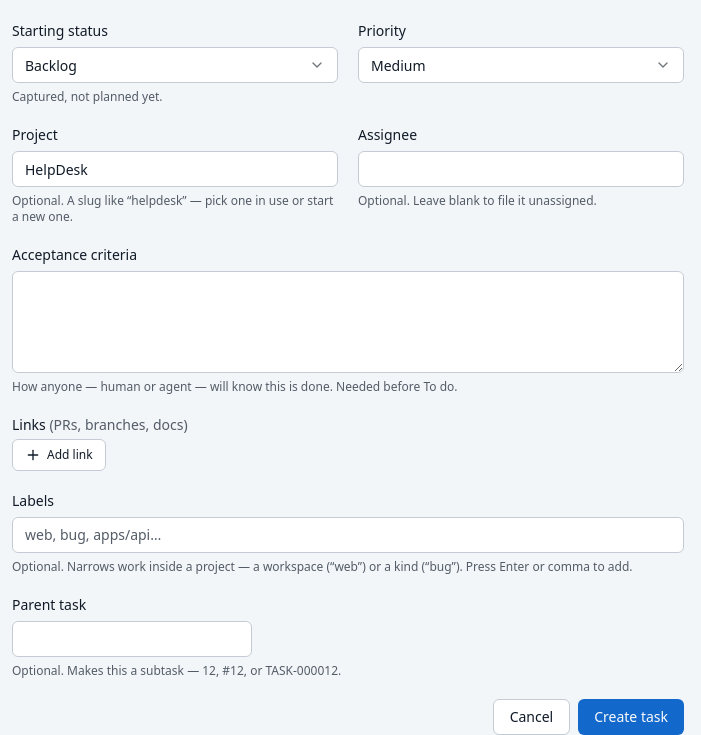
TaskForm — server details are split, never mapped directly › puts a known field's message on that field
(page scrolled)
Click the button "Create task" at {"x": 631, "y": 717}, box top-left (578, 699), bottom-right (684, 734)
(page scrolled)
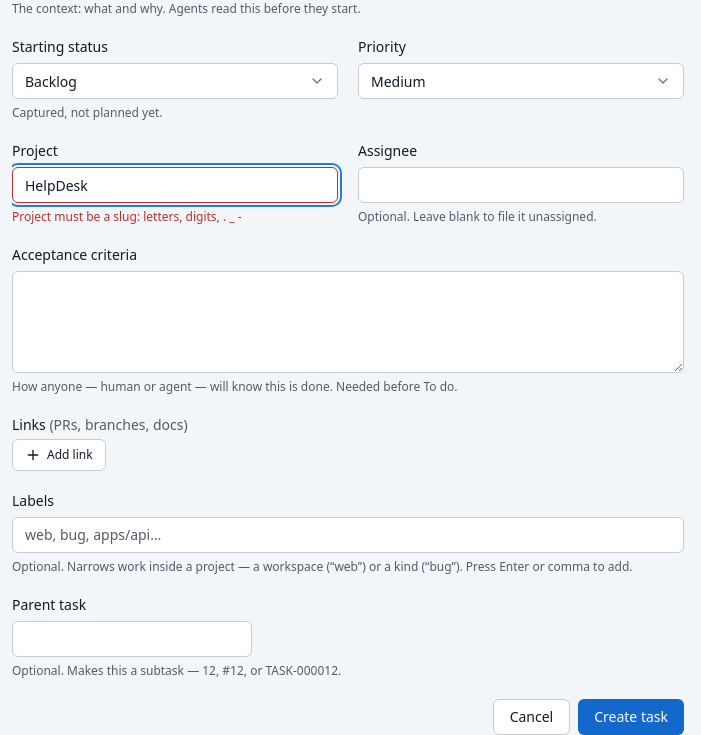
Expected: the text "Project must be a slug: letters, digits, . _ -" is shown, top-left (12, 208), bottom-right (242, 225)
